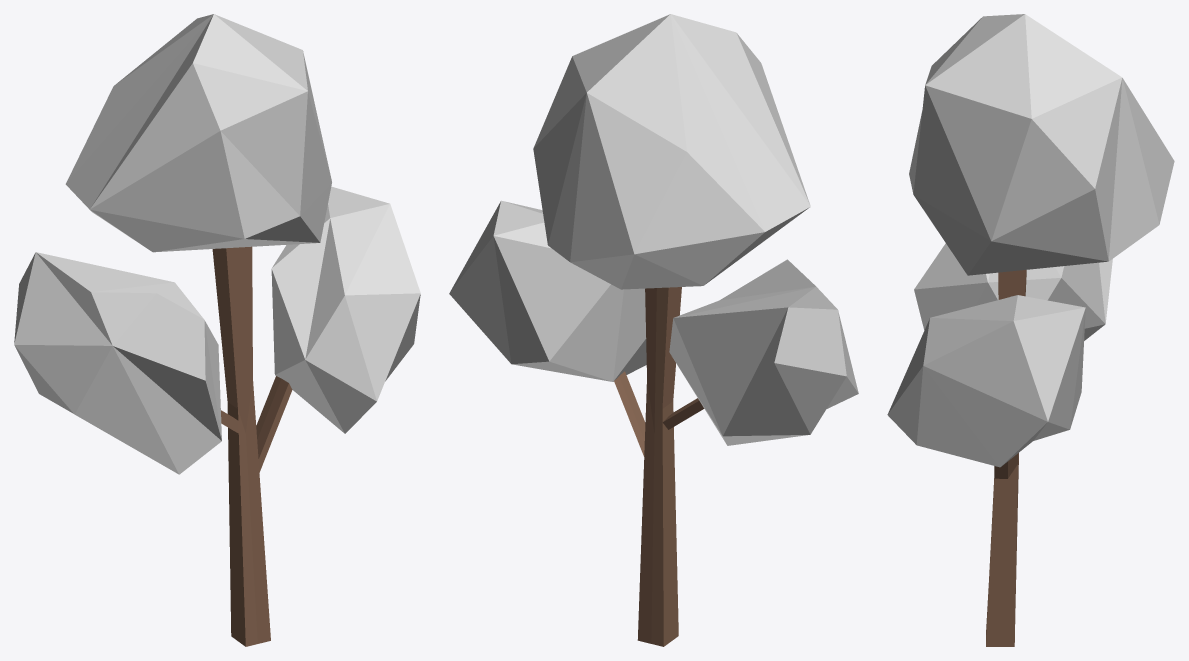
File: Tree_22_White.fbx
3 renders of one model, left to right at view 1: azimuth 30°, elevation 25°; view 2: azimuth 150°, elevation 25°; view 3: azimuth 270°, elevation 25°, orthographic. The views are drawn at different scales.
Visible parts, largest first — view 1: Tree_22_White_Part_1, Tree_22_White_Part_2; view 2: Tree_22_White_Part_1, Tree_22_White_Part_2; view 3: Tree_22_White_Part_1, Tree_22_White_Part_2.
Part boxes in pixels (x1=…): Tree_22_White_Part_1: x1=14, y1=14, x2=420, y2=474; Tree_22_White_Part_2: x1=212, y1=246, x2=292, y2=646; Tree_22_White_Part_1: x1=449, y1=14, x2=858, y2=445; Tree_22_White_Part_2: x1=614, y1=287, x2=704, y2=646; Tree_22_White_Part_1: x1=887, y1=14, x2=1174, y2=467; Tree_22_White_Part_2: x1=986, y1=270, x2=1026, y2=646.
Size of the model in its own units: 509 by 777 by 329.
